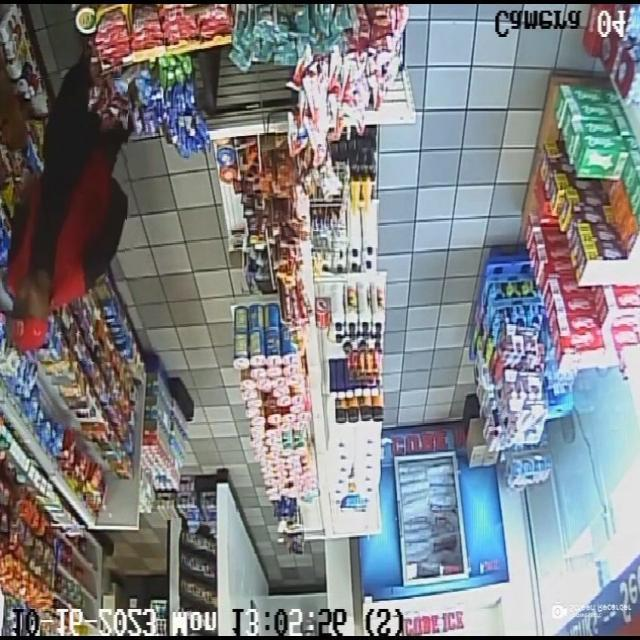Normal: (2, 78, 127, 361)
